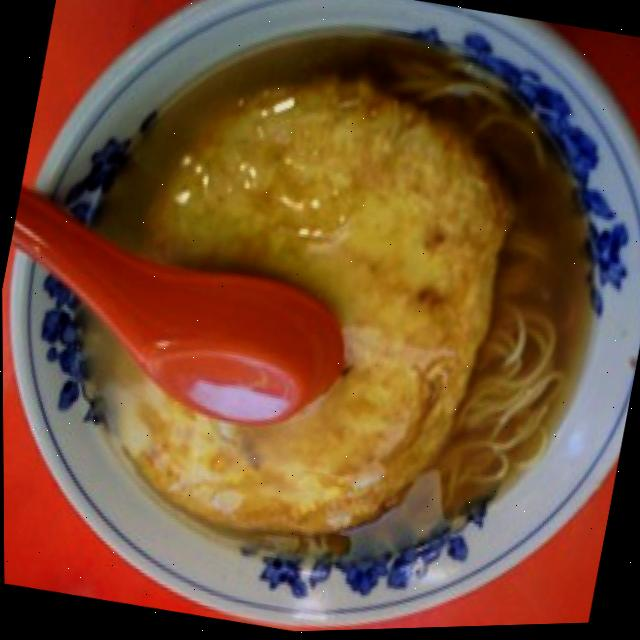面条主食: (10, 0, 633, 627)
